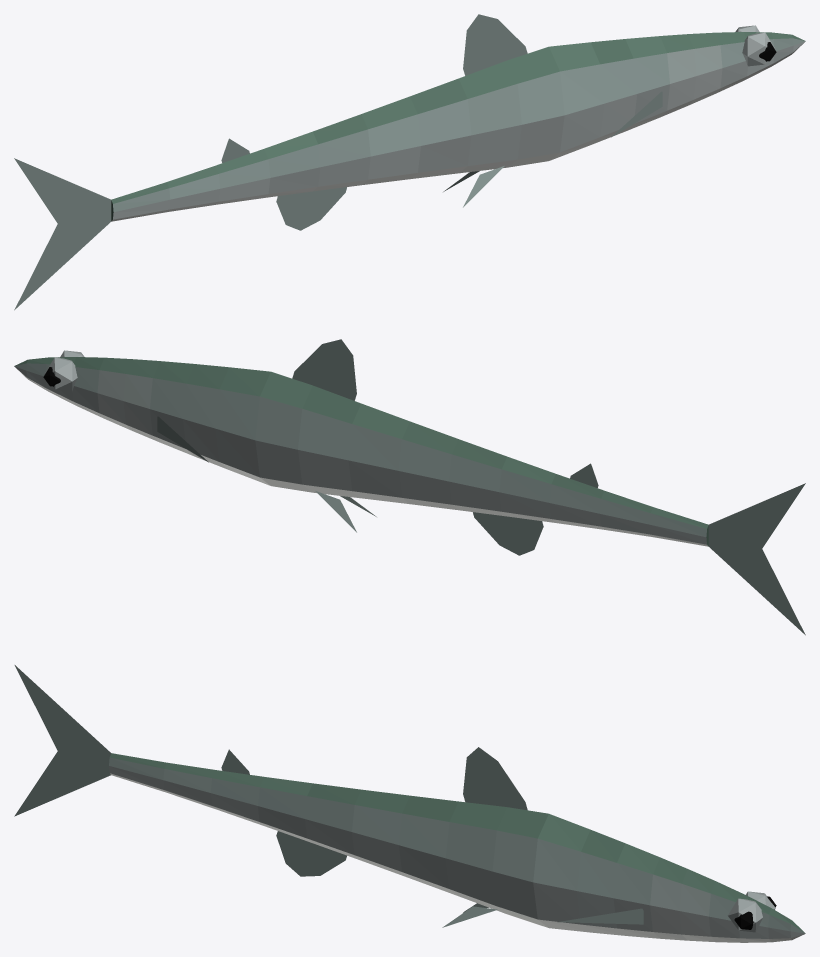
File: cisco-lake-herring.glb
3 renders of one model, top to bottom at view 1: azimuth 30°, elevation 25°; view 2: azimuth 150°, elevation 25°; view 3: azimuth 330°, elevation 25°, orthographic.
Visible parts, largest first — view 1: cisco-lake-herring; view 2: cisco-lake-herring; view 3: cisco-lake-herring.
Boxes of the visible parts, x1,y1,x2,y2 form: cisco-lake-herring: (14,14,805,310); cisco-lake-herring: (14,339,805,635); cisco-lake-herring: (14,665,805,942).
Bounding box in the file's own units: 1.14 × 0.252 × 0.132.
